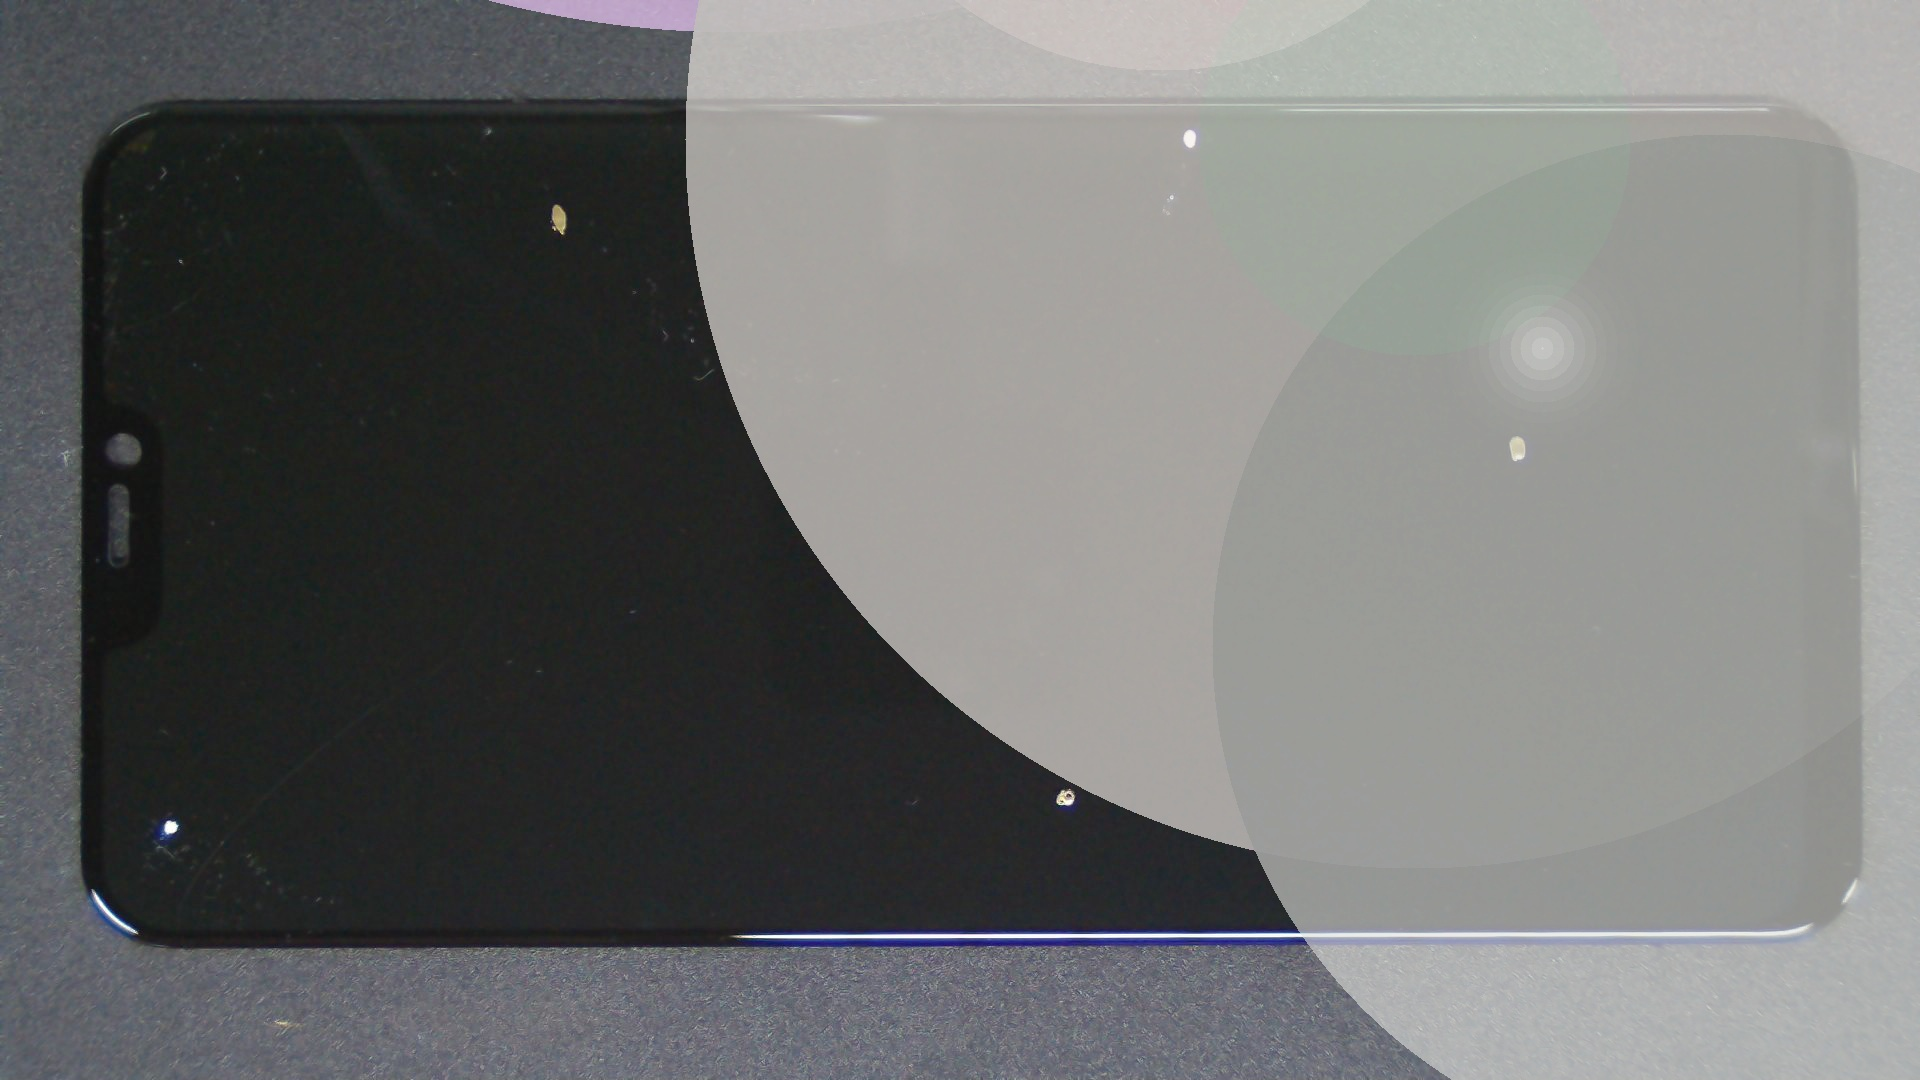oil: (535, 392, 1605, 1080), (760, 216, 1920, 651), (595, 62, 1782, 191), (88, 409, 264, 1080), (276, 102, 825, 305)
